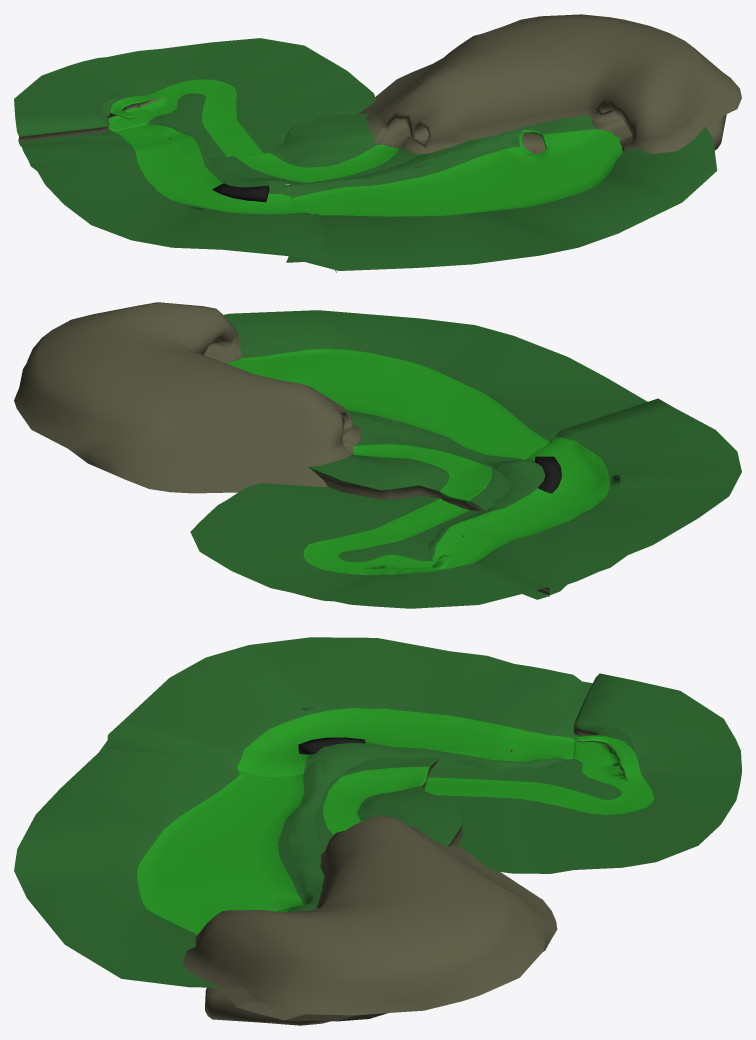
Rendered from aer_racer_circuit_v08.obj.
3 renders of one model, top to bottom at view 1: azimuth 30°, elevation 25°; view 2: azimuth 150°, elevation 25°; view 3: azimuth 270°, elevation 25°, orthographic. The views are drawn at different scales.
Visible parts, largest first — view 1: desert_03, start39, half_pipe_02, finish_part_01, Box002; view 2: desert_03, half_pipe_02, start39, finish_part_01, Box002; view 3: desert_03, half_pipe_02, start39, finish_part_01.
Part boxes in pixels (x1,y1,x2,y2): desert_03: (280,14,741,270); start39: (14,38,376,159); half_pipe_02: (18,123,336,272); finish_part_01: (210,113,420,183); Box002: (212,183,269,202); desert_03: (14,302,647,493); half_pipe_02: (428,398,741,599); start39: (190,483,549,608); finish_part_01: (308,432,509,511); Box002: (534,456,561,493); desert_03: (14,740,557,1025); half_pipe_02: (107,637,592,785); start39: (424,673,741,873); finish_part_01: (314,756,463,849).
Bounding box in the file's own units: 407465 × 46851 × 338873.
